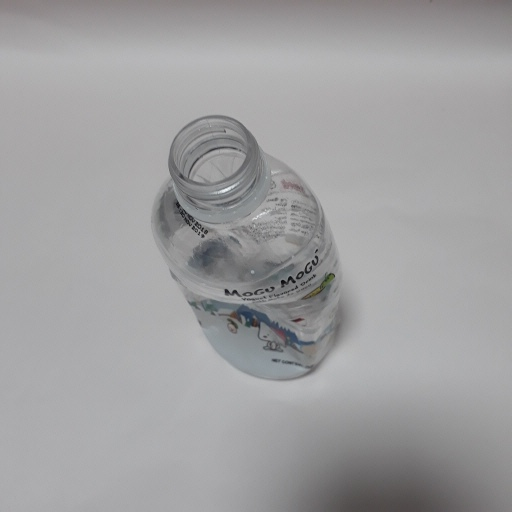Plastic_0: (148, 117, 345, 381)
